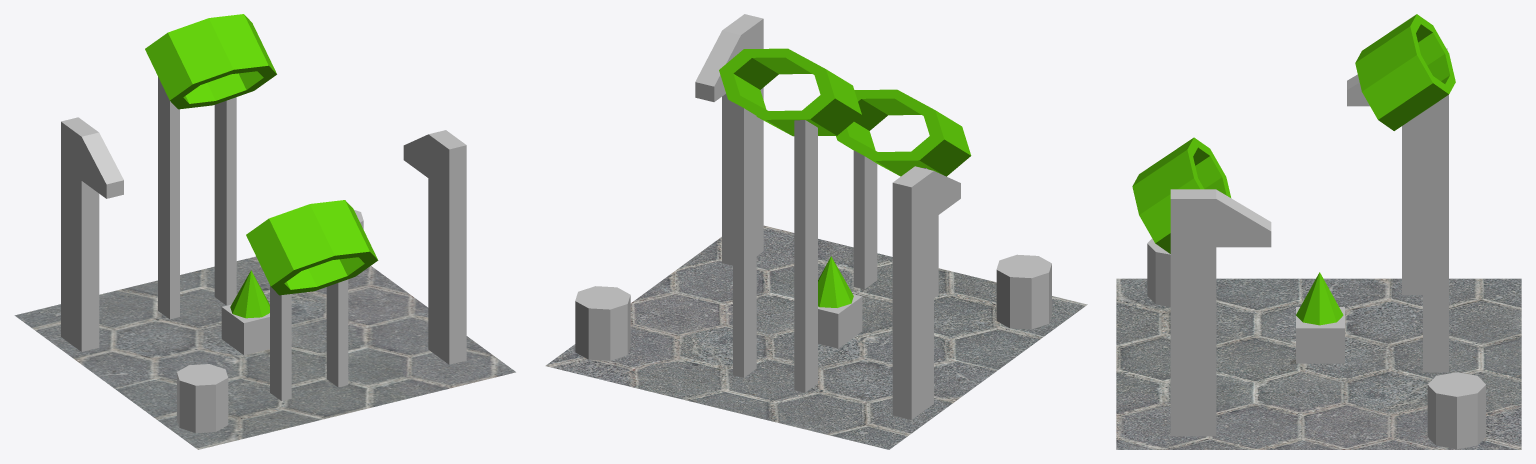
File: One_Grid.fbx
3 views of the same model, side by side, from view 1: azimuth 30°, elevation 25°; view 2: azimuth 150°, elevation 25°; view 3: azimuth 270°, elevation 25° (orthographic). The views are drawn at different scales.
Visible parts, largest first — view 1: one, Cube_1.001, Cube__1_.002, Pipe.001, Pipe__1_, r__3_, r__2_, Cylinder__3_, r, r__1_, Cube.002, Cone; view 2: one, Cube_1.001, Pipe__1_, r__3_, r__2_, Pipe.001, Cube__1_.002, Cylinder, Cylinder__3_, r, Cube.002, Cone; view 3: one, Cube__1_.002, Pipe__1_, r__2_, Pipe.001, Cube_1.001, Cylinder, Cube.002, Cone, Cylinder__3_.
Boxes of the visible parts, x1,y1,x2,y2 form: one: [14, 256, 515, 449]; Cube_1.001: [61, 117, 123, 351]; Cube__1_.002: [403, 130, 466, 364]; Pipe.001: [246, 200, 378, 295]; Pipe__1_: [145, 14, 276, 109]; r__3_: [158, 77, 179, 319]; r__2_: [214, 97, 236, 305]; Cylinder__3_: [177, 364, 228, 432]; r: [326, 279, 348, 387]; r__1_: [270, 285, 291, 401]; Cube.002: [221, 304, 269, 355]; Cone: [230, 270, 269, 318]; one: [545, 225, 1087, 449]; Cube_1.001: [892, 166, 960, 419]; Pipe__1_: [719, 48, 861, 136]; r__3_: [794, 120, 817, 392]; r__2_: [733, 102, 756, 377]; Pipe.001: [836, 89, 971, 176]; Cube__1_.002: [695, 14, 763, 265]; Cylinder: [575, 286, 630, 360]; Cylinder__3_: [996, 254, 1051, 329]; r: [853, 150, 877, 289]; Cube.002: [818, 294, 862, 348]; Cone: [818, 256, 853, 307]; one: [1116, 278, 1521, 449]; Cube__1_.002: [1170, 189, 1271, 436]; Pipe__1_: [1355, 14, 1455, 130]; r__2_: [1423, 95, 1448, 372]; Pipe.001: [1132, 137, 1230, 253]; Cube_1.001: [1347, 48, 1447, 294]; Cylinder: [1427, 372, 1485, 449]; Cube.002: [1296, 307, 1344, 363]; Cone: [1296, 272, 1343, 325]; Cylinder__3_: [1147, 238, 1170, 306].
Size of the model in its own units: 10000 by 9002 by 10000.
